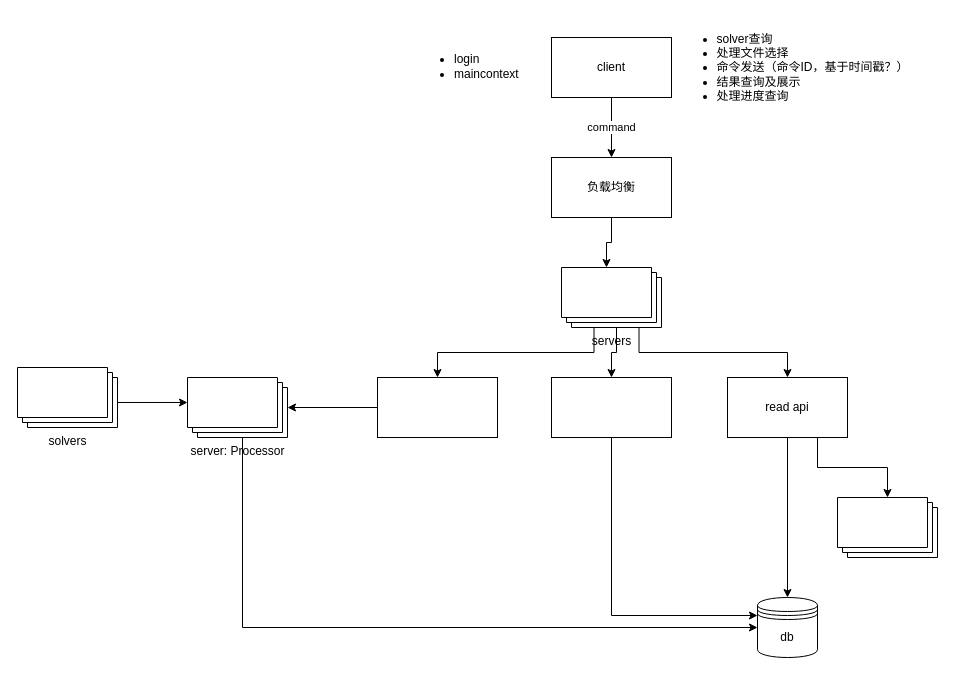
The diagram is 955 pixels wide and 675 high, and some of its shapes have lost their labels. Each missing label, with the centre of its shape:
caches: (887,527)
write api: (611,407)
write api 计算后台进程: (437,407)
